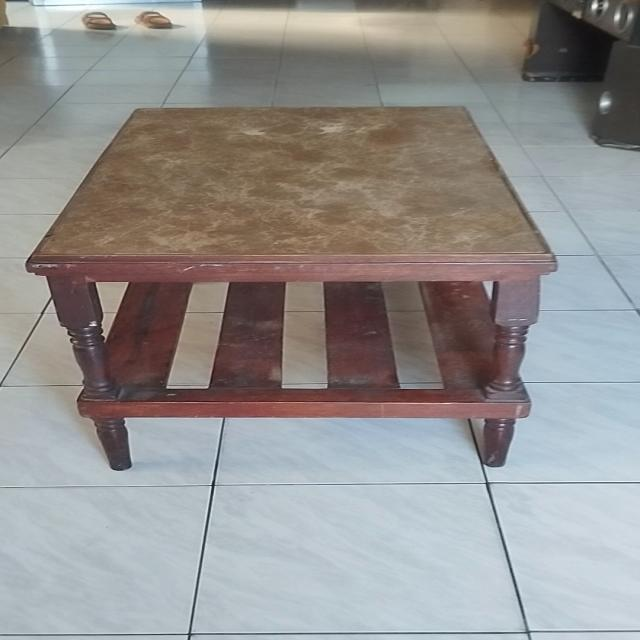table: (26, 101, 564, 468)
